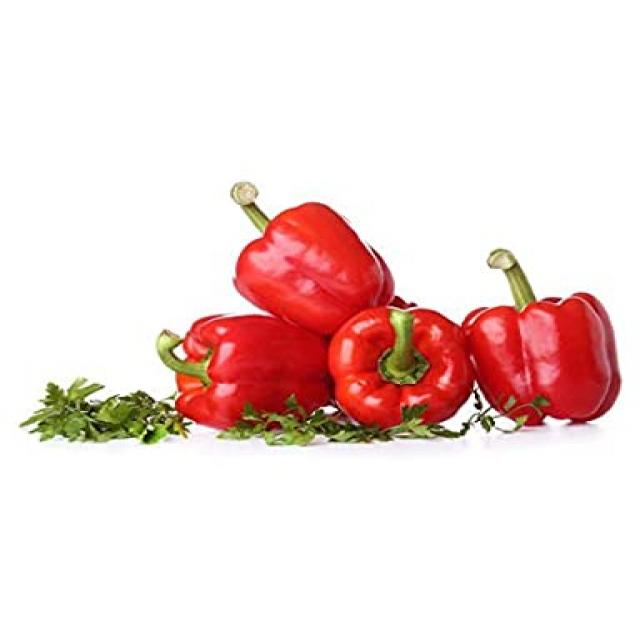pepper: (476, 248, 618, 423), (232, 183, 394, 315), (157, 311, 329, 426), (330, 306, 472, 420)
